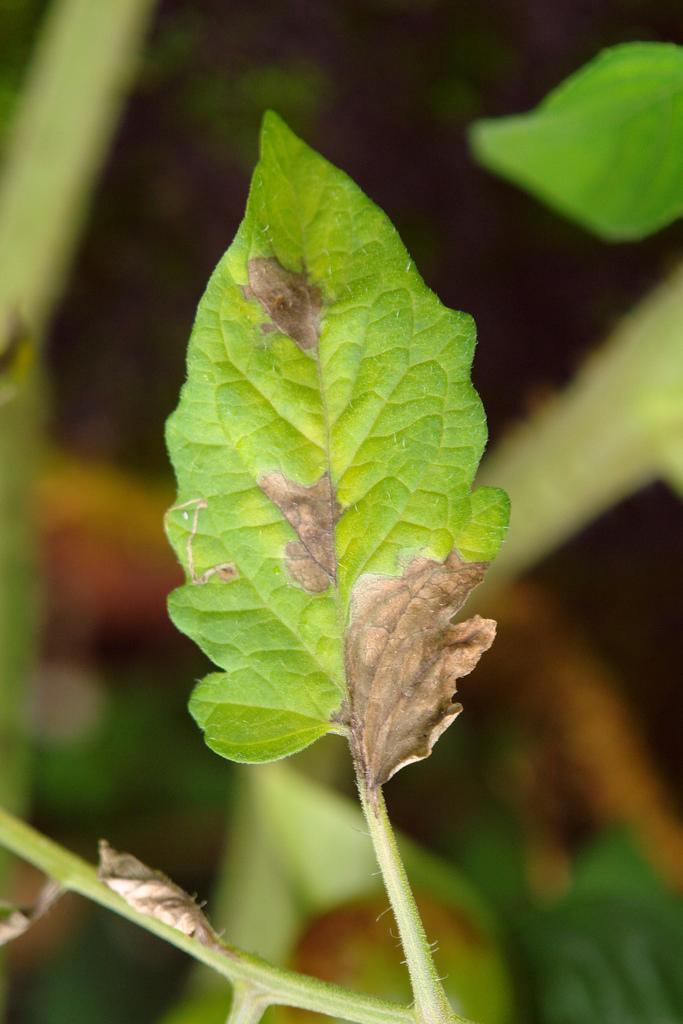Tomato leaf late blight: (151, 93, 519, 788)
